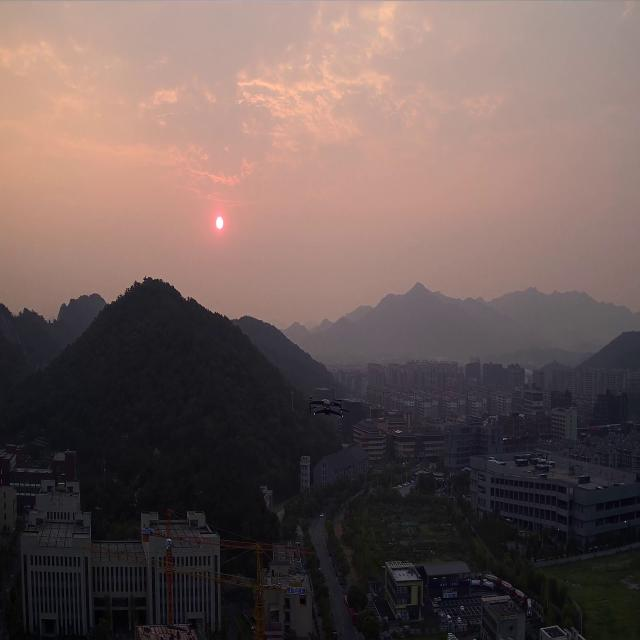UAV: (308, 394, 348, 420)
